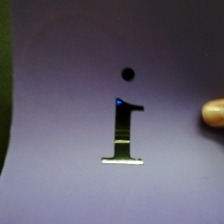violet1: (93, 63, 154, 168)
